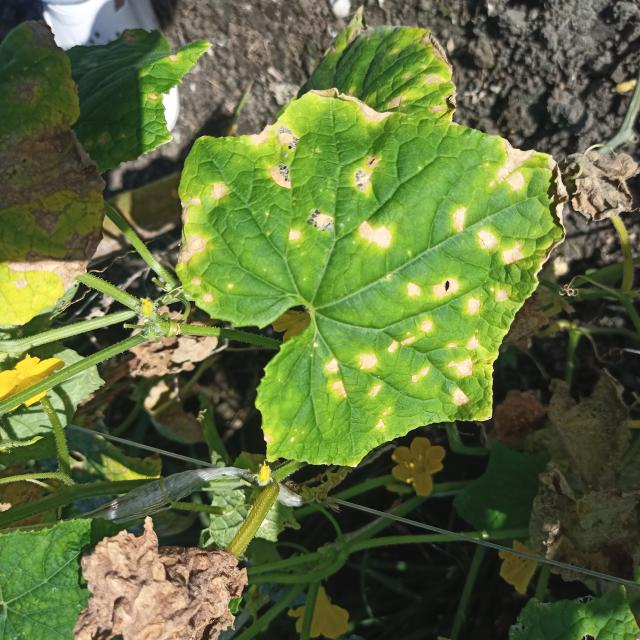disease_cucumber: (181, 94, 556, 442)
